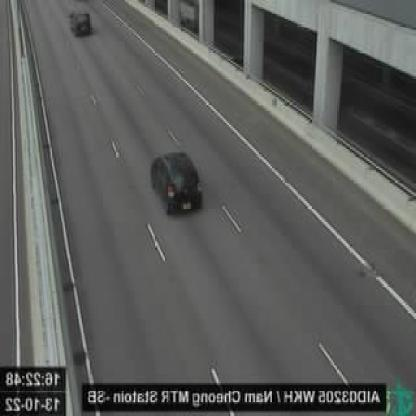Car: (152, 152, 203, 214), (70, 9, 92, 35)
